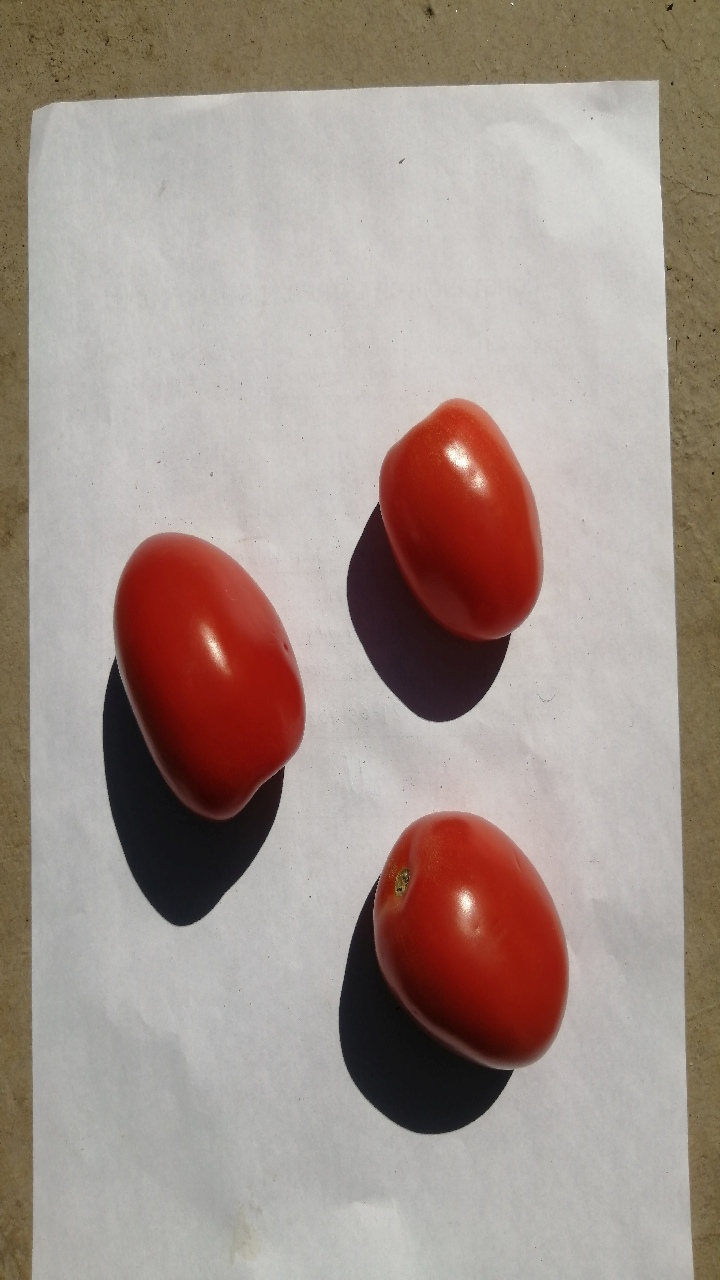tomateRojo: (92, 506, 320, 834), (343, 785, 581, 1097), (358, 374, 572, 666)
